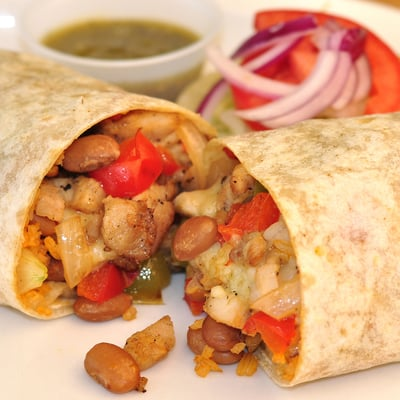soup: (0, 48, 219, 325), (211, 113, 400, 389)
sushi: (17, 0, 224, 101)
